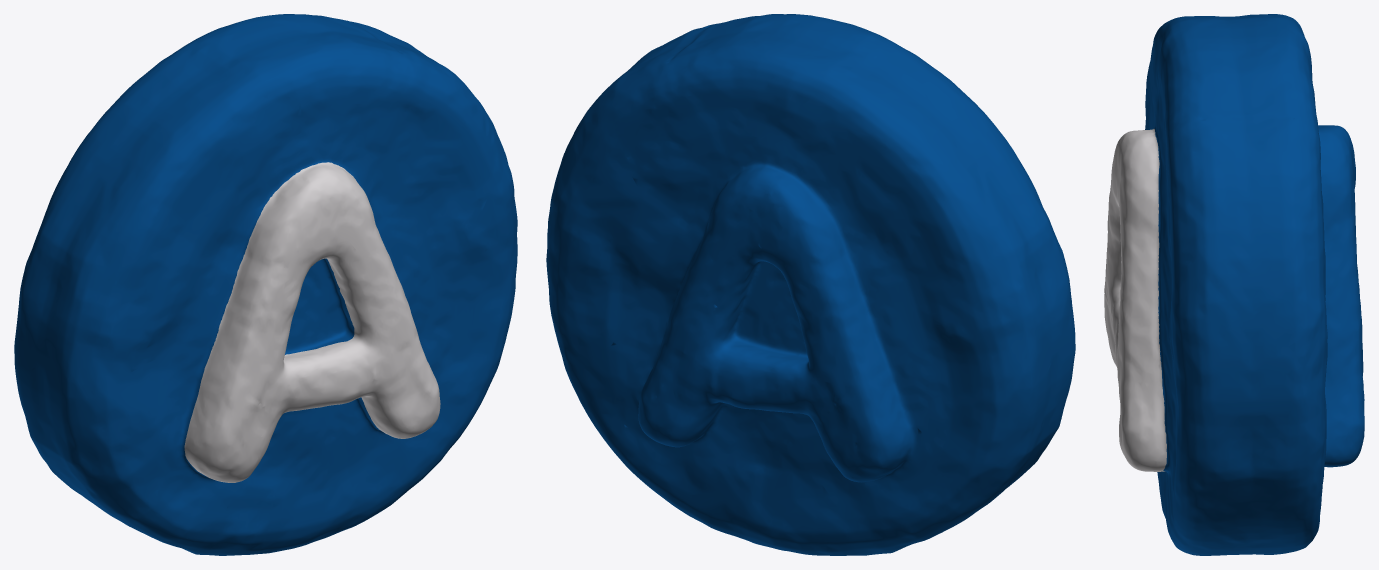
The model's file is Stack 2A - A train.glb.
3 views of the same model, side by side, from view 1: azimuth 30°, elevation 25°; view 2: azimuth 150°, elevation 25°; view 3: azimuth 270°, elevation 25° (orthographic).
Visible parts, largest first — view 1: Stack 2A - A train · mesh; view 2: Stack 2A - A train · mesh; view 3: Stack 2A - A train · mesh.
Part boxes in pixels (x1=…): Stack 2A - A train · mesh: x1=14, y1=14, x2=517, y2=555; Stack 2A - A train · mesh: x1=546, y1=14, x2=1075, y2=555; Stack 2A - A train · mesh: x1=1104, y1=14, x2=1364, y2=555.
Size of the model in its own units: 1 by 0.9927 by 0.4746.
